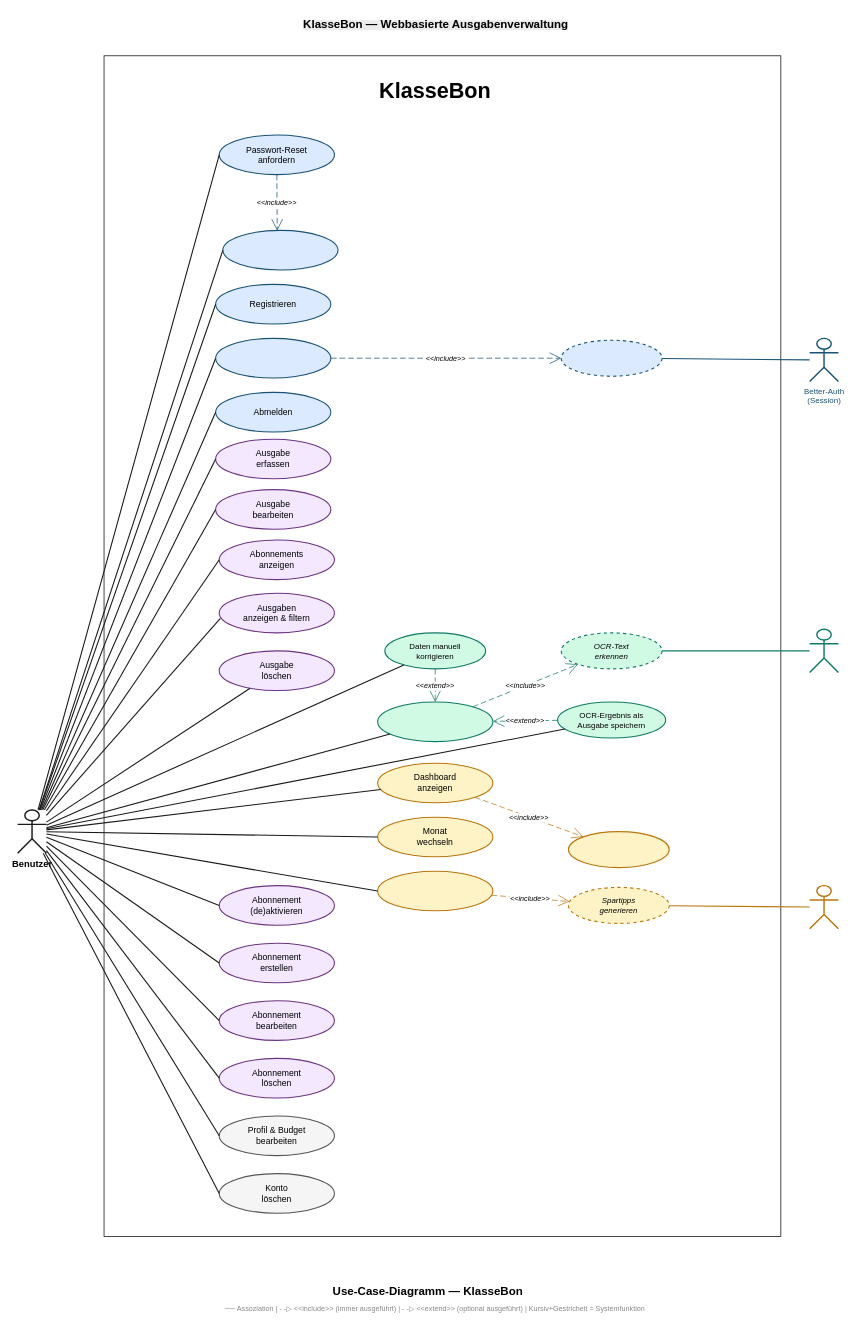
The diagram is 856 pixels wide and 1328 high, and some of its shapes have lost their labels. Each missing label, with the box of its shape:
Anmelden: (215, 338, 331, 378)
Kategorie- Diagramm anzeigen: (568, 831, 669, 868)
Neues Passwort festlegen: (222, 230, 338, 270)
Ollama (LLM): (809, 885, 839, 929)
Quittung hochladen: (377, 701, 493, 742)
Session validieren: (560, 339, 662, 376)
Spartipps anzeigen: (377, 870, 493, 911)
Tesseract (OCR): (809, 628, 839, 673)
